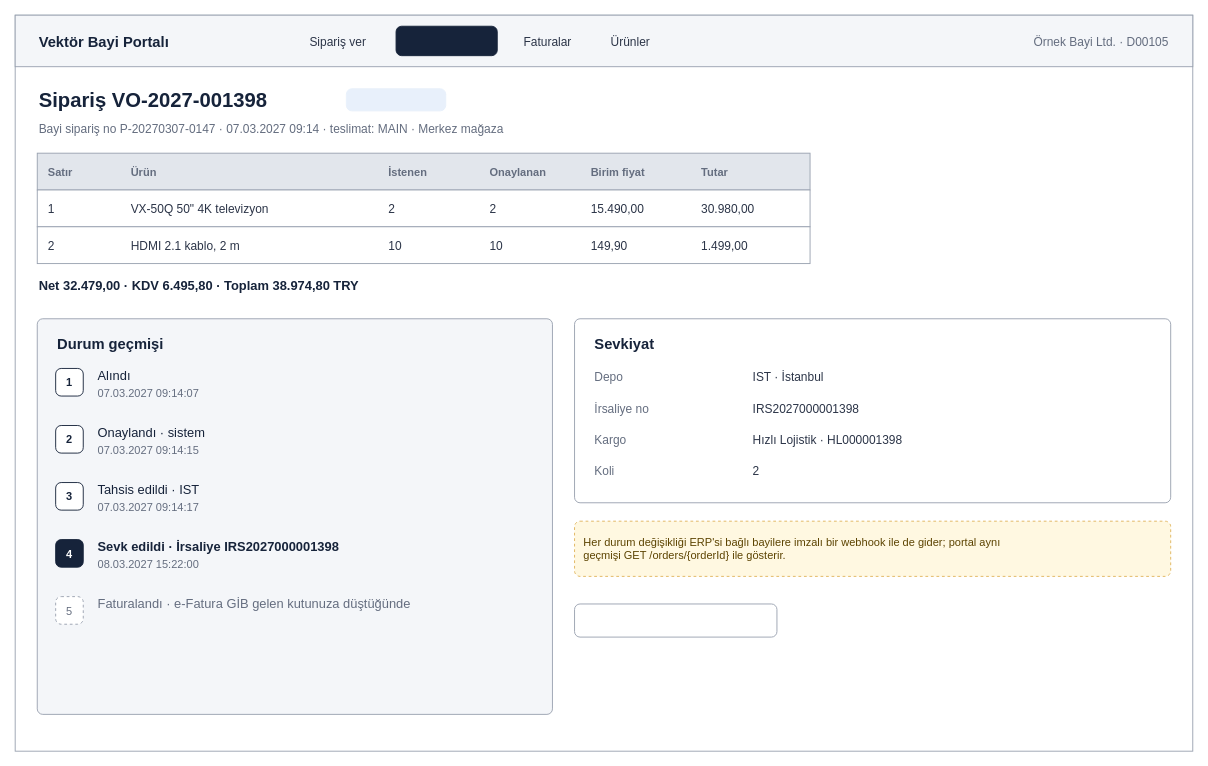
This 1208x766 diagram has some shape labels left out. Here are the shapes that lost their labels. From the top down, the centre of each, then its label:
At point 446,40: "Siparişlerim".
At point 395,99: "Sevk edildi".
At point 675,620: "Siparişi yazdır".
